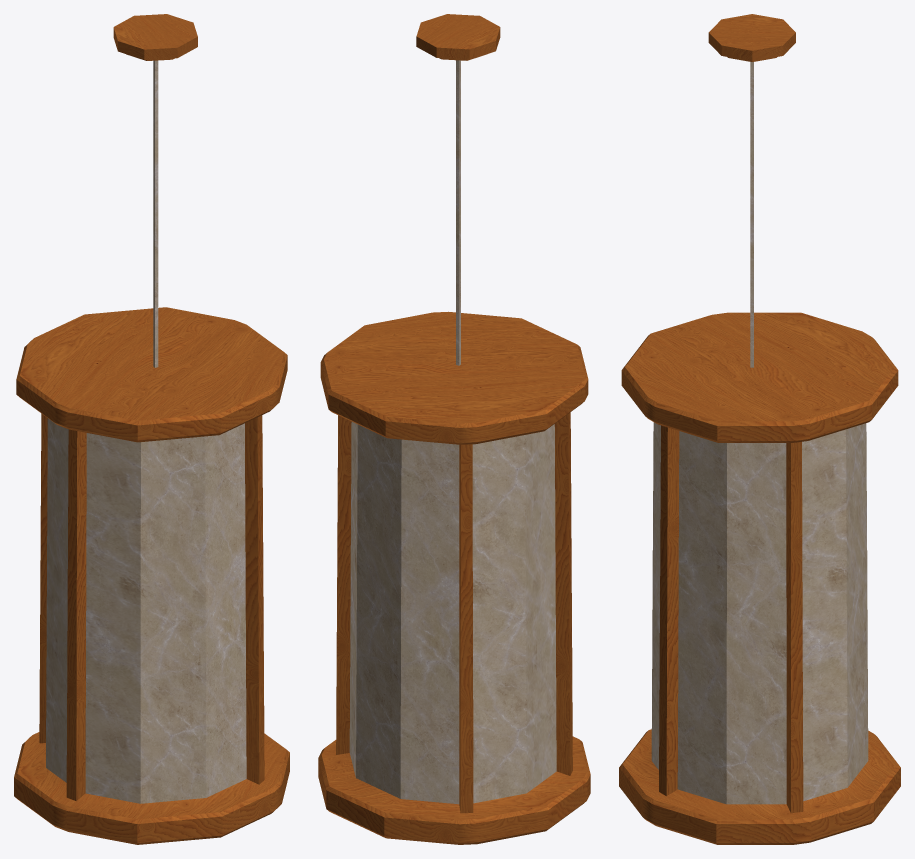
Rendered from SM_R_Lantern_1.fbx.
The picture shows the model from 3 angles, left to right: view 1: azimuth 30°, elevation 25°; view 2: azimuth 150°, elevation 25°; view 3: azimuth 270°, elevation 25°; orthographic projection.
Parts seen in each view (by area): view 1: SM_R_Lantern_1; view 2: SM_R_Lantern_1; view 3: SM_R_Lantern_1.
Part boxes in pixels (left/top/right/bottom): SM_R_Lantern_1: left=14, top=14, right=289, bottom=844; SM_R_Lantern_1: left=318, top=14, right=590, bottom=844; SM_R_Lantern_1: left=619, top=14, right=900, bottom=844.
Bounding box in the file's own units: 32.43 × 34.1 × 101.
1 material, 1 textured.
